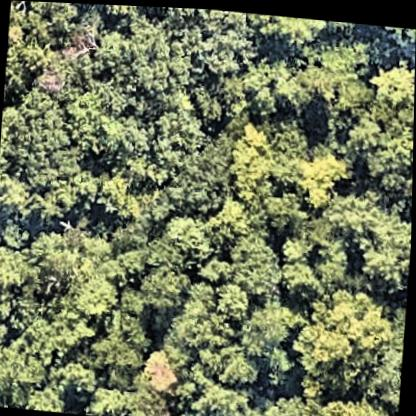tree-top: (288, 282, 401, 391), (34, 223, 120, 309), (108, 14, 188, 97), (169, 272, 237, 365), (225, 119, 295, 205), (228, 50, 307, 122), (11, 108, 85, 184), (350, 101, 414, 187), (62, 78, 134, 154), (163, 134, 229, 212), (20, 299, 95, 364), (355, 216, 412, 299), (90, 306, 155, 377), (237, 291, 303, 359), (194, 7, 256, 78), (292, 140, 356, 208), (148, 94, 209, 163), (184, 364, 262, 416), (297, 60, 367, 117), (228, 228, 284, 295), (159, 207, 225, 261), (0, 336, 59, 396), (136, 261, 197, 316), (246, 11, 334, 46), (284, 391, 400, 416), (139, 347, 191, 402), (330, 183, 385, 234), (366, 55, 415, 112), (0, 242, 42, 302), (210, 342, 261, 389), (55, 354, 103, 402), (34, 183, 83, 227), (261, 334, 303, 385), (0, 171, 37, 226), (22, 1, 83, 31), (214, 275, 252, 322), (265, 190, 305, 234), (63, 18, 104, 60), (18, 384, 74, 412), (280, 228, 317, 268), (91, 3, 160, 22), (373, 21, 416, 49), (0, 374, 1, 405)
